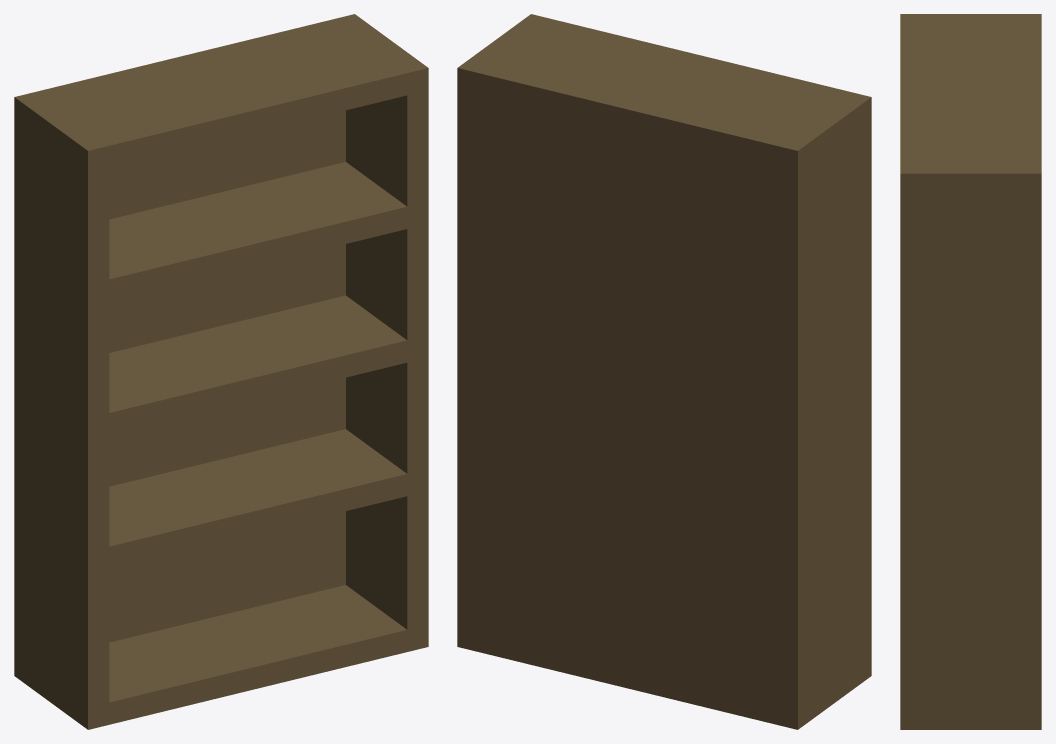
The model's file is roman_bookcase.fbx.
3 renders of one model, left to right at view 1: azimuth 30°, elevation 25°; view 2: azimuth 150°, elevation 25°; view 3: azimuth 270°, elevation 25°, orthographic. The views are drawn at different scales.
Visible parts, largest first — view 1: Cube.070; view 2: Cube.070; view 3: Cube.070.
Boxes of the visible parts, <box> form: Cube.070: <box>14,14,428,729</box>; Cube.070: <box>457,14,871,729</box>; Cube.070: <box>900,14,1041,729</box>.
Bounding box in the file's own units: 1.6 × 2.6 × 0.6.
